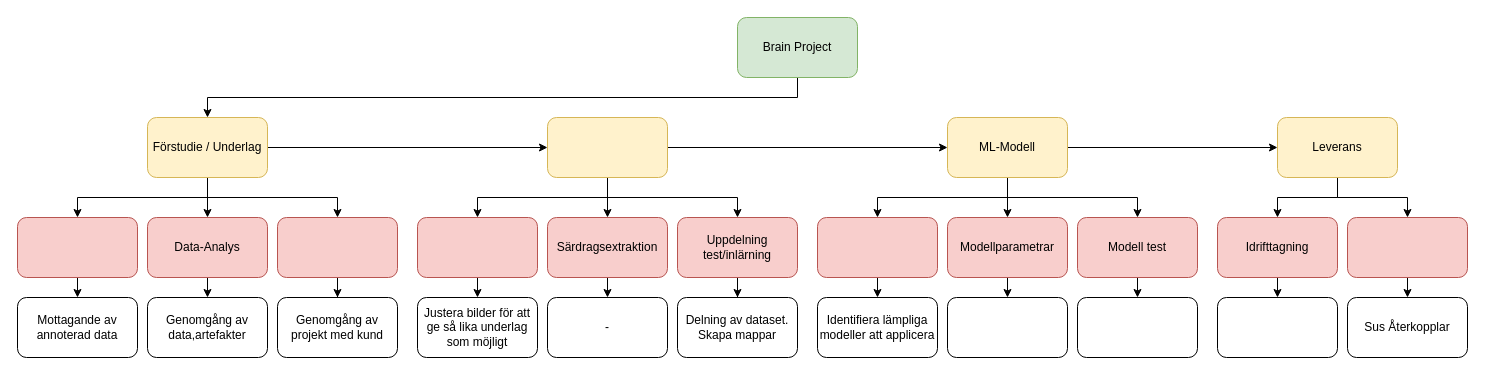
Image size: 1485x375. Some labels were removed from this diagram. Here are the shapes that lost their labels. From the top down, the box of each, then its label:
(546, 116, 668, 178): Datahantering
(16, 216, 138, 278): Data-insamling
(276, 216, 398, 278): Behovs analys
(416, 216, 538, 278): Data förarbete
(816, 216, 938, 278): Modellträning/ Algoritmframtagning
(1346, 216, 1468, 278): Övervakning
(946, 296, 1068, 358): Spara enligt lämplig annotering
(1076, 296, 1198, 358): Utvärdera modeller/ parametrar
(1216, 296, 1338, 358): Streamlit / API
